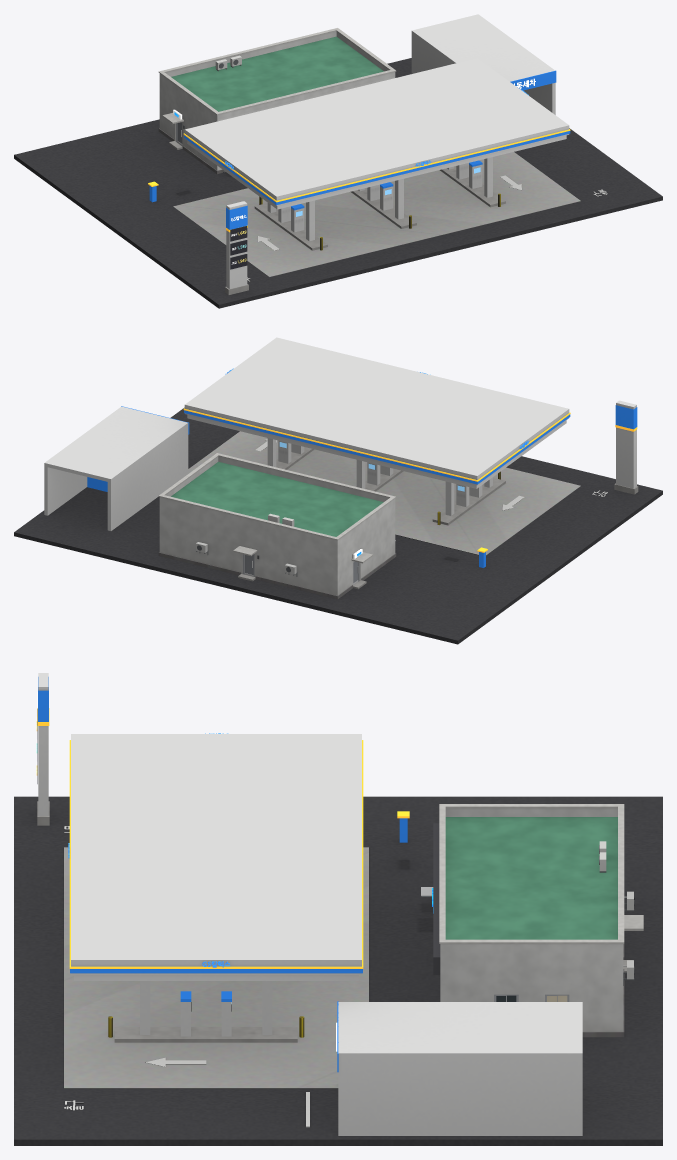
The model's file is IlsanGasStation_LOD1.fbx.
3 views of the same model, one above another, from view 1: azimuth 30°, elevation 25°; view 2: azimuth 150°, elevation 25°; view 3: azimuth 270°, elevation 25° (orthographic). The views are drawn at different scales.
Parts seen in each view (by area): view 1: IlsanGasStation_LOD1; view 2: IlsanGasStation_LOD1; view 3: IlsanGasStation_LOD1.
Boxes of the visible parts, x1,y1,x2,y2 form: IlsanGasStation_LOD1: (14,14,662,308); IlsanGasStation_LOD1: (14,337,662,644); IlsanGasStation_LOD1: (14,673,662,1145).
Size of the model in its own units: 39.9 by 7.8 by 31.9.
Materials: 1 (1 with a texture image).
